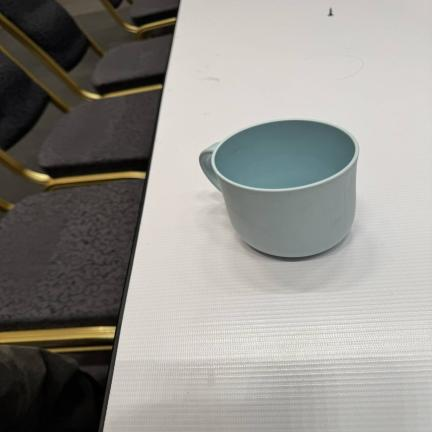cup: (200, 120, 359, 257)
